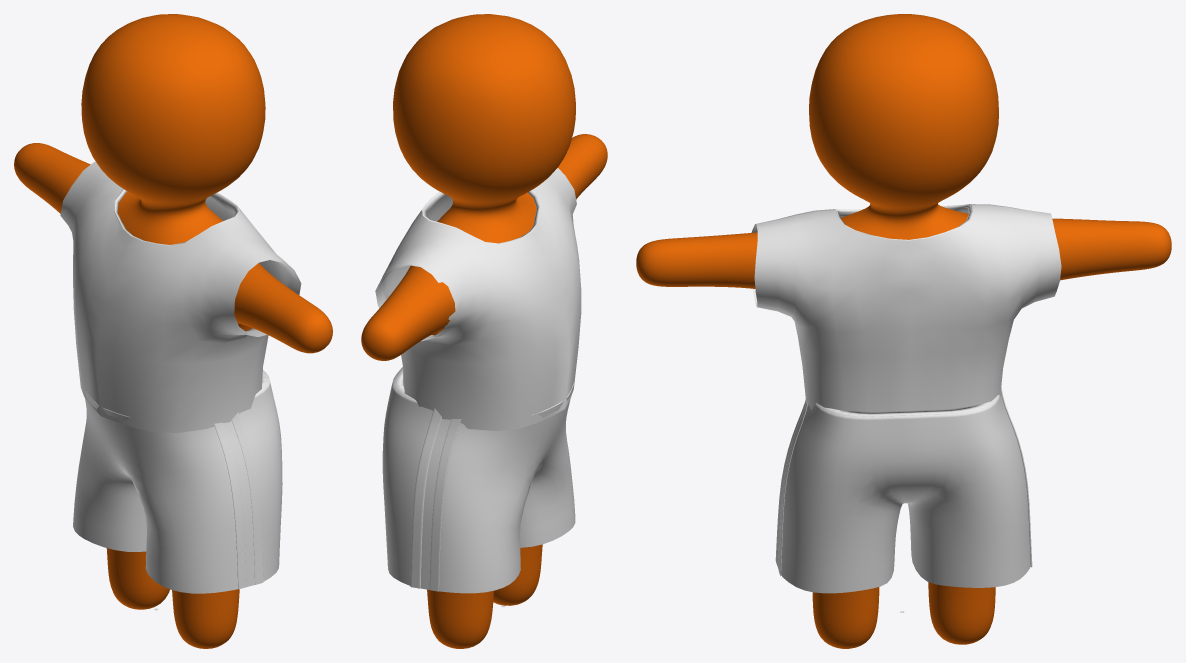
The model's file is PlayerYanlisEksen.fbx.
3 renders of one model, left to right at view 1: azimuth 30°, elevation 25°; view 2: azimuth 150°, elevation 25°; view 3: azimuth 270°, elevation 25°, orthographic. The views are drawn at different scales.
Visible parts, largest first — view 1: Stickman, t-shirt-one, pants-one; view 2: Stickman, t-shirt-one, pants-one; view 3: Stickman, t-shirt-one, pants-one.
Part boxes in pixels (bbox=[...]): Stickman: bbox=[14, 14, 332, 648]; t-shirt-one: bbox=[60, 161, 301, 432]; pants-one: bbox=[73, 370, 282, 593]; Stickman: bbox=[361, 14, 607, 648]; t-shirt-one: bbox=[375, 168, 581, 430]; pants-one: bbox=[382, 367, 575, 593]; Stickman: bbox=[636, 14, 1171, 648]; t-shirt-one: bbox=[751, 204, 1061, 411]; pants-one: bbox=[775, 387, 1032, 593].
Bounding box in the file's own units: 47.62 × 171 × 134.
